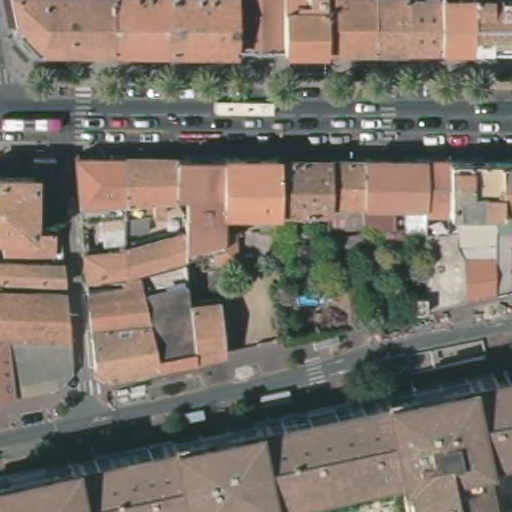pool: (293, 290, 326, 309)
